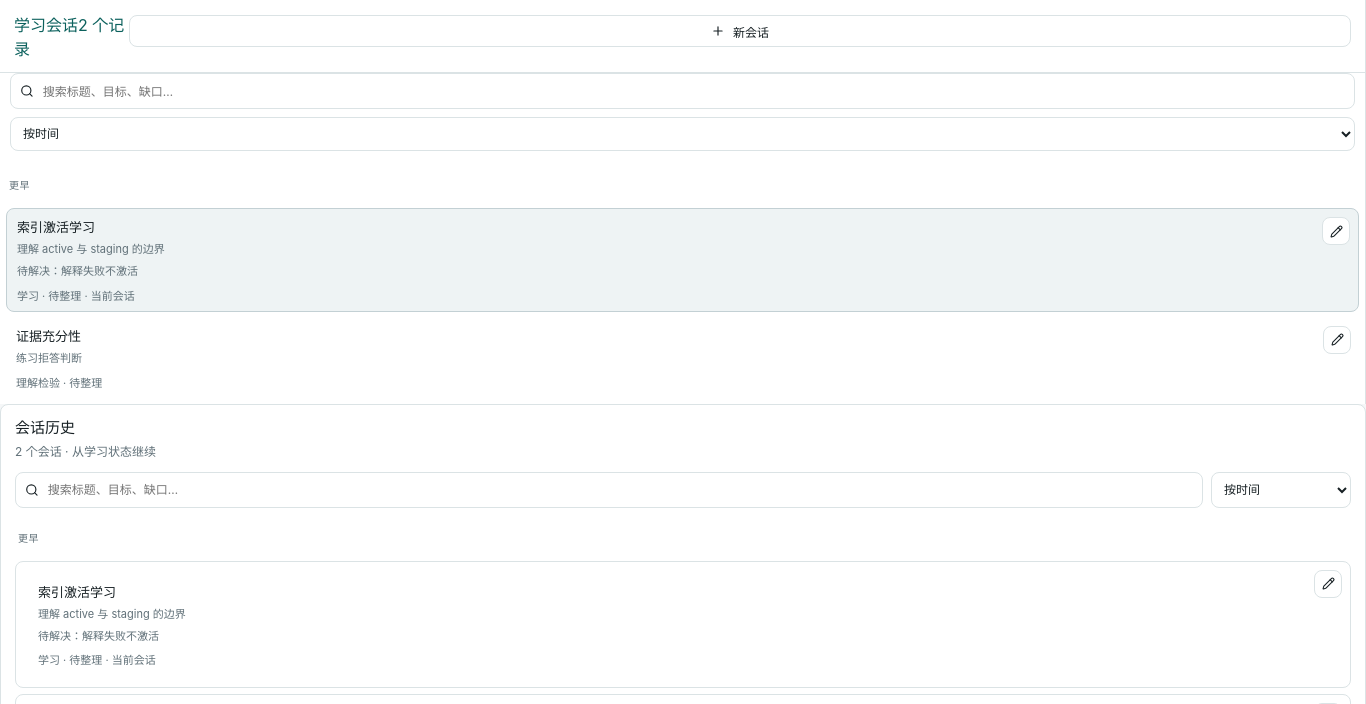
SessionNavigator › shares one interaction state across sidebar and drawer surfaces
Type "证据充分性" into the field named "搜索学习会话" at (693, 91), box left=41, top=74, right=1345, bottom=108
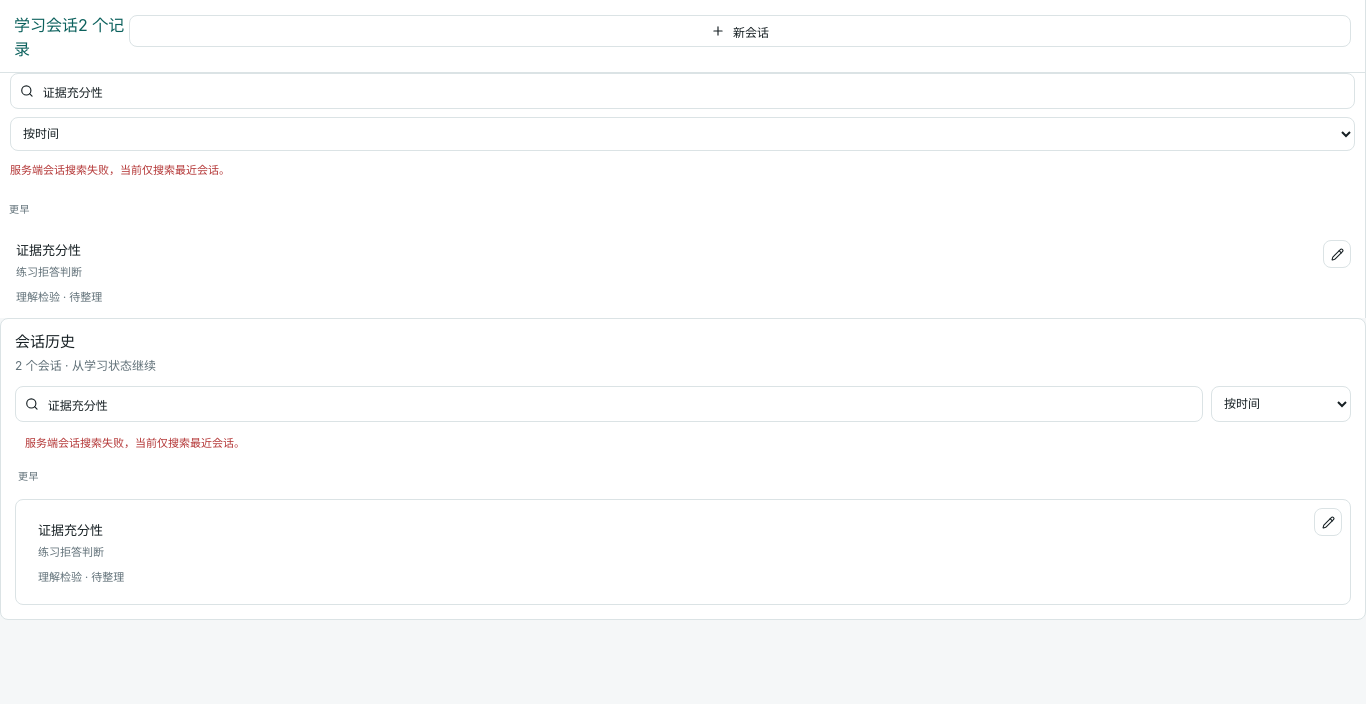
Result: the field named "搜索学习会话" below "个会话 · 从学习状态继续" holds "证据充分性" at left=46, top=387, right=1193, bottom=421
Result: the button "索引激活学习" is gone
Result: the text "证据充分性" is shown 2 times at left=16, top=240, right=81, bottom=259; left=38, top=520, right=103, bottom=539
